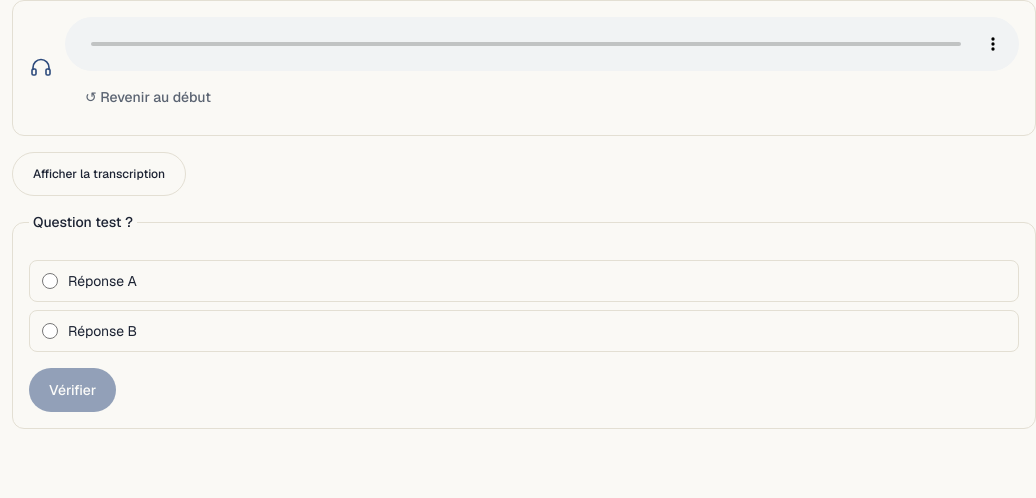
Scenario: AudioExercise › shows a transcript toggle when a transcript is provided, and never fabricates one
The image size is (1036, 498).
Check: the text "Bonjour, ceci est le script." is not shown
Click the button "Afficher la transcription" at (99, 174), box [12, 152, 186, 196]
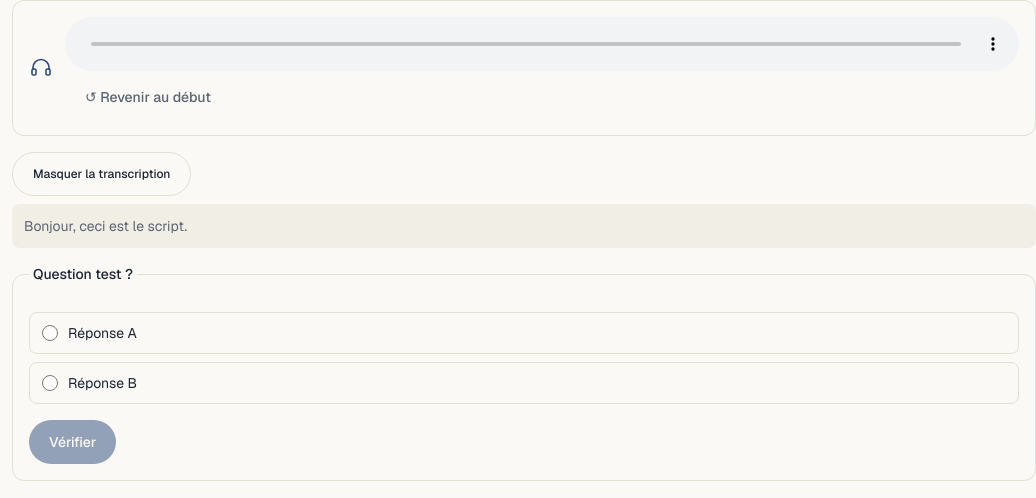
Check: the text "Bonjour, ceci est le script." is shown, box [12, 204, 1035, 248]
